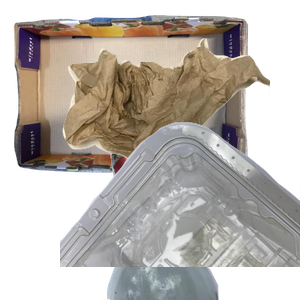cardboard: (11, 13, 251, 182)
glass: (83, 120, 294, 300)
plastic: (60, 120, 300, 300)
trash: (60, 36, 300, 198)
